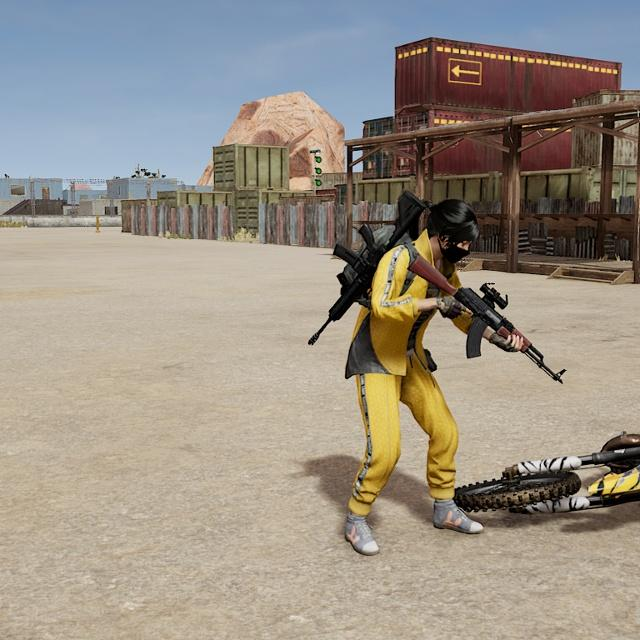head: (418, 195, 484, 265)
people: (327, 193, 493, 557)
